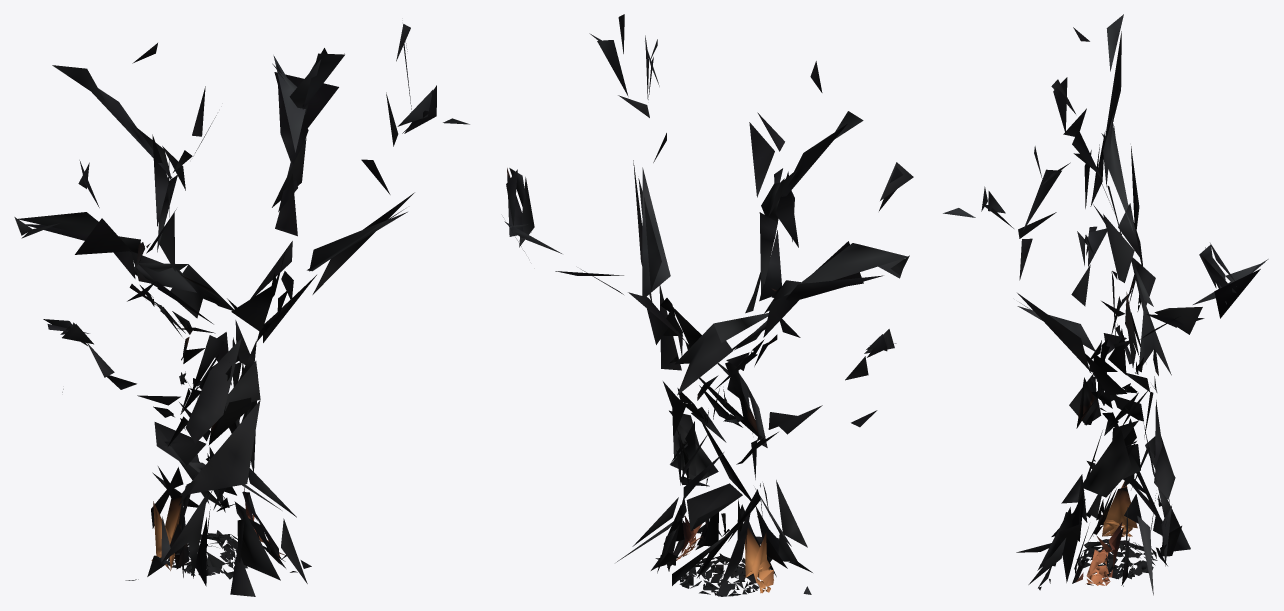
File: biome_charred_lo.glb
3 views of the same model, side by side, from view 1: azimuth 30°, elevation 25°; view 2: azimuth 150°, elevation 25°; view 3: azimuth 270°, elevation 25° (orthographic). The views are drawn at different scales.
Visible parts, largest first — view 1: Mesh_0; view 2: Mesh_0; view 3: Mesh_0.
Boxes of the visible parts, x1=… form: Mesh_0: x1=14, y1=24, x2=469, y2=596; Mesh_0: x1=503, y1=14, x2=913, y2=596; Mesh_0: x1=943, y1=14, x2=1268, y2=595.
Size of the model in its own units: 5.4 by 7.55 by 4.42.
Materials: 1 (1 with a texture image).
